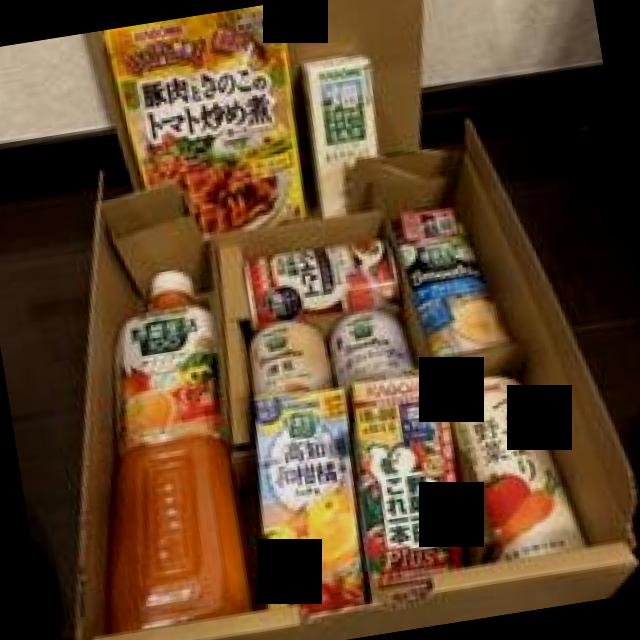juice: (111, 269, 263, 637)
